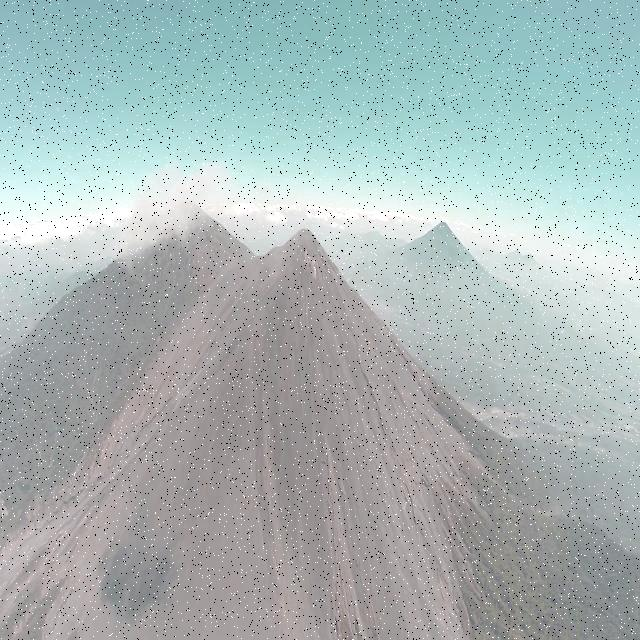Plume: (106, 155, 236, 276)
Summit: (264, 228, 338, 278)
